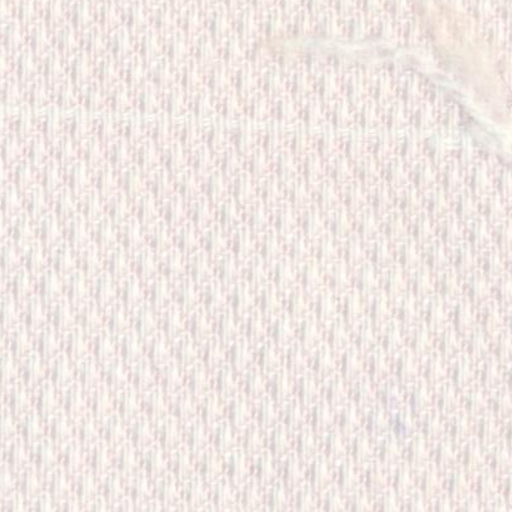DuanSha: (256, 3, 505, 151)
